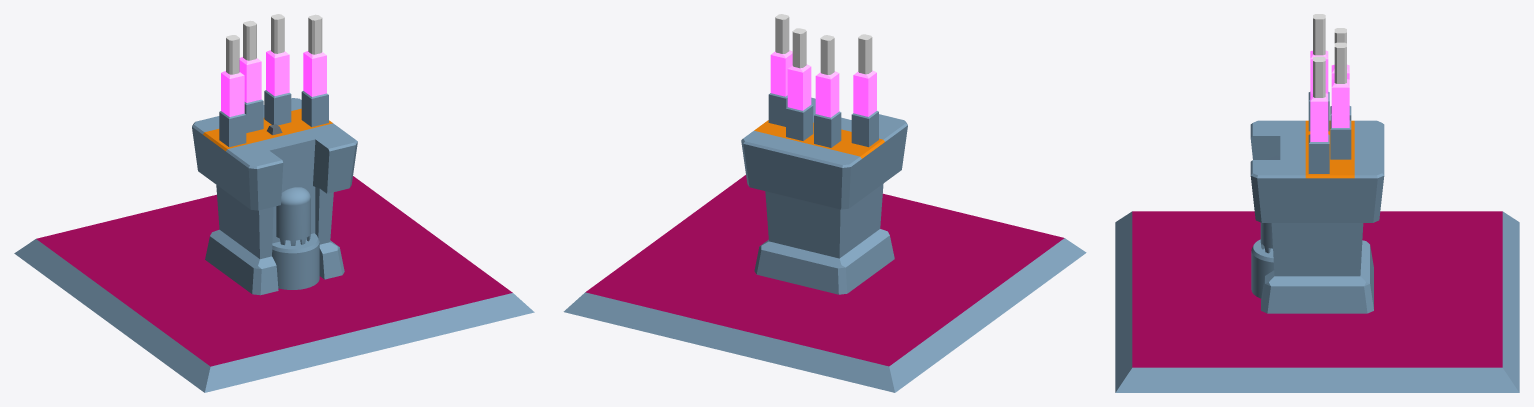
The model's file is 13_aaltar_4.fbx.
3 views of the same model, side by side, from view 1: azimuth 30°, elevation 25°; view 2: azimuth 150°, elevation 25°; view 3: azimuth 270°, elevation 25° (orthographic). The views are drawn at different scales.
Visible parts, largest first — view 1: bottom4; view 2: bottom4; view 3: bottom4.
Part boxes in pixels (x1,y1,x2,y2): bottom4: (14, 14, 534, 392); bottom4: (563, 14, 1086, 392); bottom4: (1115, 14, 1519, 392).
Bounding box in the file's own units: 78.73 × 58 × 78.73.
